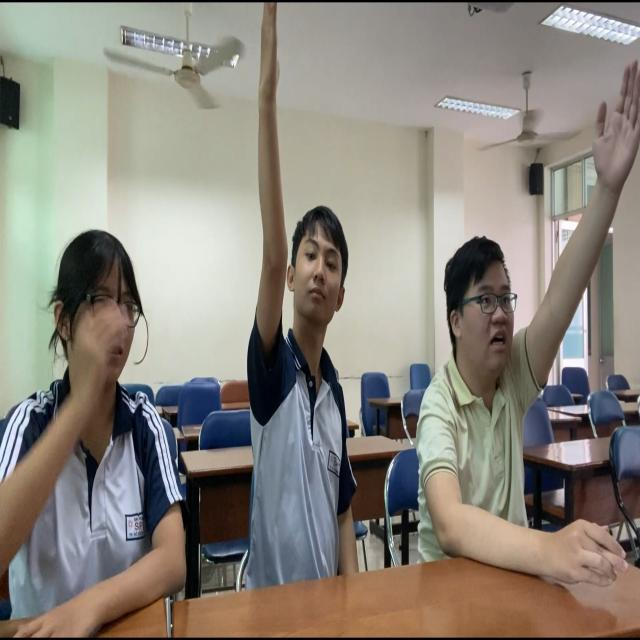raise_hand: (417, 47, 640, 602), (216, 4, 382, 588)
